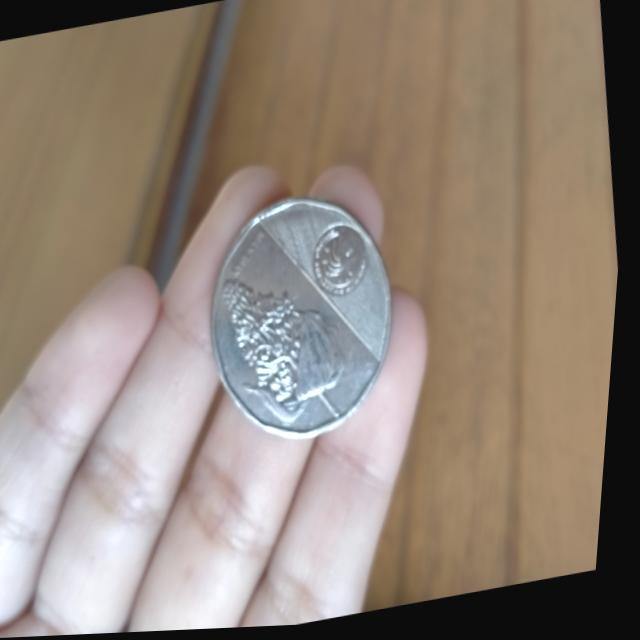10_New_Back: (217, 258, 371, 441)
